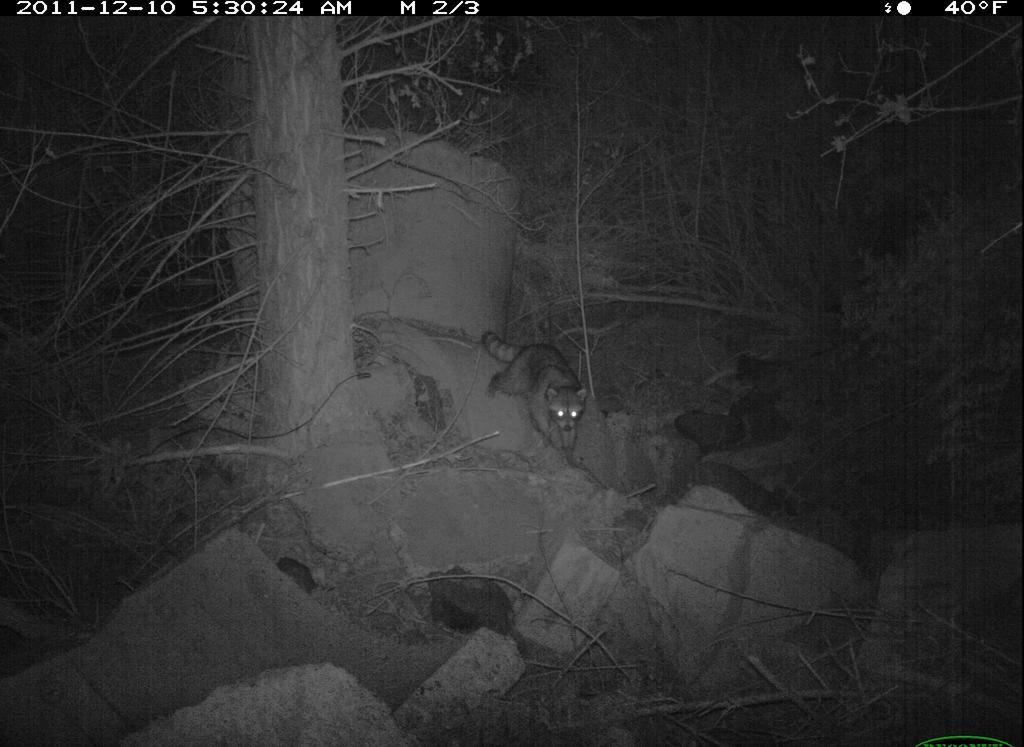raccoon: (472, 321, 603, 466)
